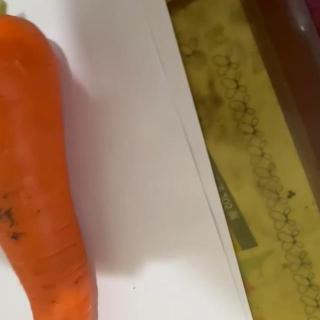carrot: (0, 0, 96, 320)
